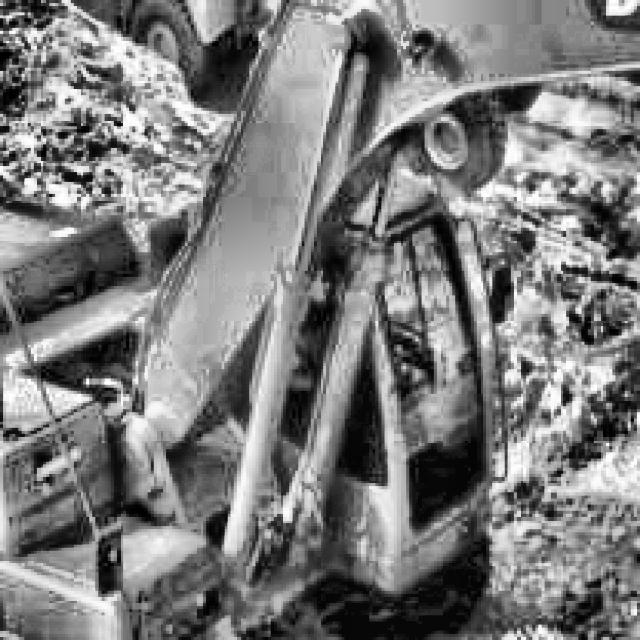dump_truck: (80, 0, 369, 92)
excavator: (0, 0, 640, 640)
